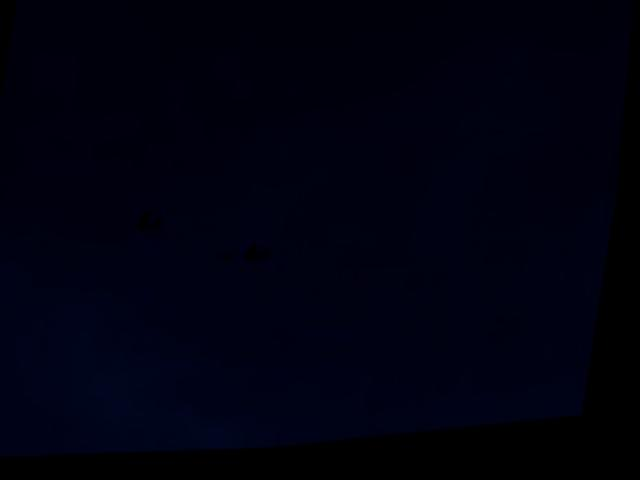uav: (136, 210, 169, 238), (248, 246, 276, 267)
